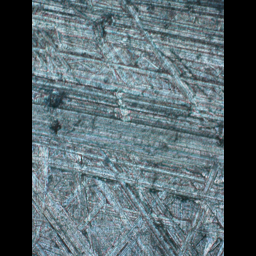d: (36, 142, 224, 256), (84, 0, 196, 126)
